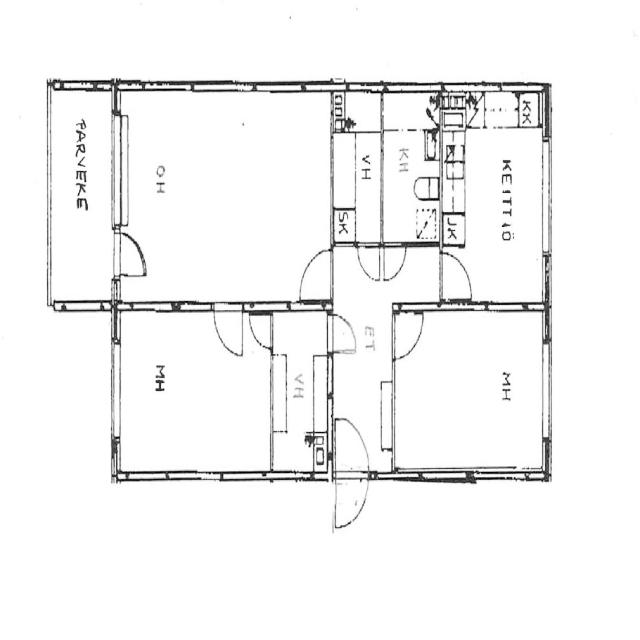door: (332, 412, 372, 532), (295, 242, 334, 304), (210, 299, 246, 360), (440, 247, 476, 303), (115, 226, 150, 281), (392, 306, 427, 360), (326, 309, 359, 356), (378, 239, 409, 283), (246, 309, 275, 351), (356, 240, 383, 283)
window: (107, 106, 131, 232), (536, 134, 556, 262), (106, 332, 125, 444), (473, 464, 532, 486), (541, 334, 553, 439), (107, 223, 125, 280), (487, 298, 532, 311), (541, 309, 554, 344)
zone: (116, 82, 331, 305), (391, 306, 553, 476), (113, 308, 274, 474), (443, 84, 548, 308), (46, 82, 118, 309), (269, 307, 333, 481), (380, 94, 440, 247), (333, 86, 385, 242)
